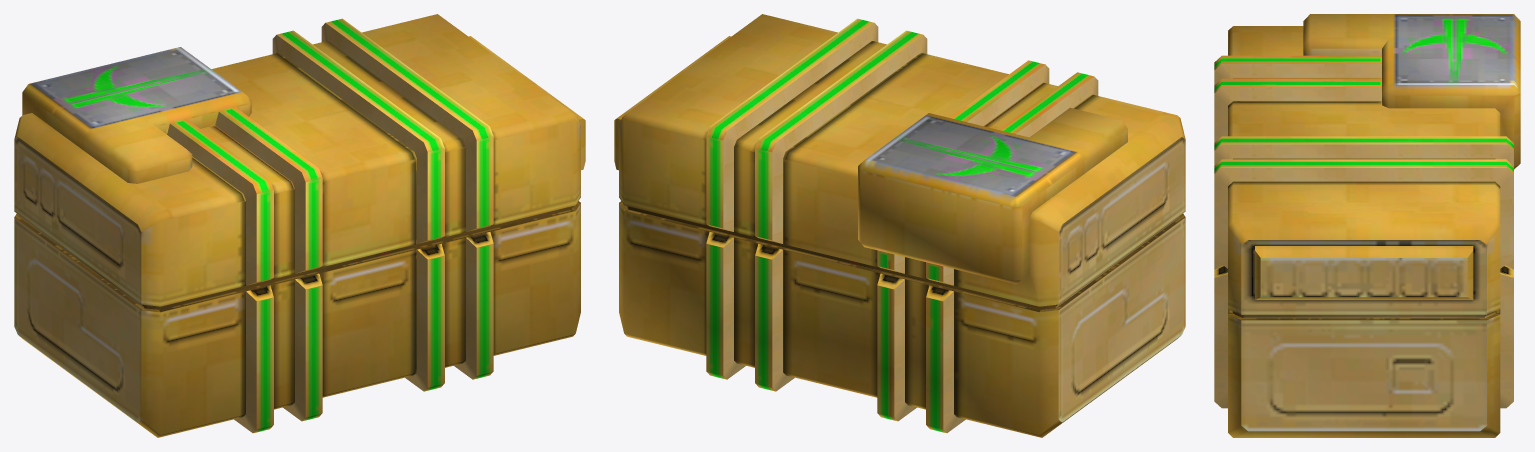
File: con_fs_quest_s01.fbx
3 views of the same model, side by side, from view 1: azimuth 30°, elevation 25°; view 2: azimuth 150°, elevation 25°; view 3: azimuth 270°, elevation 25° (orthographic). The views are drawn at different scales.
Parts seen in each view (by area): view 1: mesh_node; view 2: mesh_node; view 3: mesh_node.
Part boxes in pixels (bbox=[...]): mesh_node: bbox=[14, 14, 585, 437]; mesh_node: bbox=[614, 14, 1185, 437]; mesh_node: bbox=[1214, 14, 1520, 437].
Size of the model in its own units: 1.86 by 1 by 1.12.
